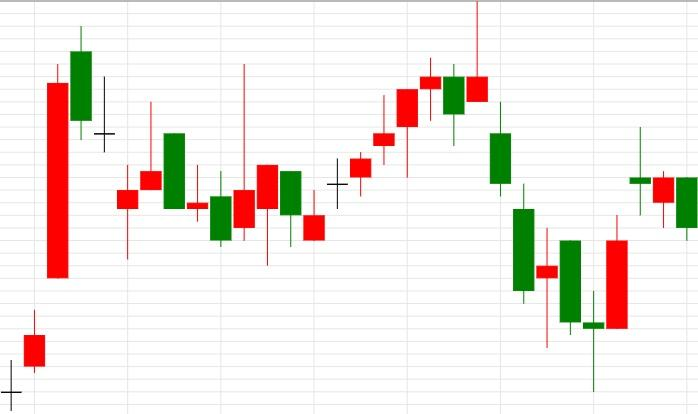evening_star_fall: (303, 58, 465, 241)
morning_star_rise: (466, 1, 628, 393)
shooting_star_fall: (303, 1, 488, 241)
